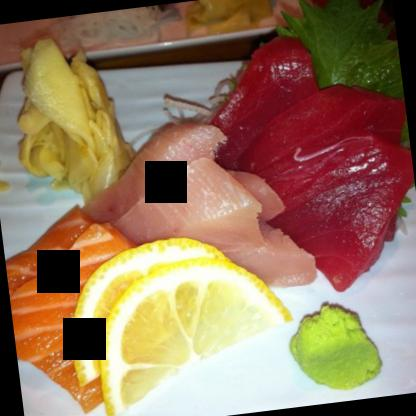lemon: (68, 214, 292, 415)
salmon: (0, 204, 144, 415)
tuna: (200, 21, 415, 296), (104, 112, 317, 294)
